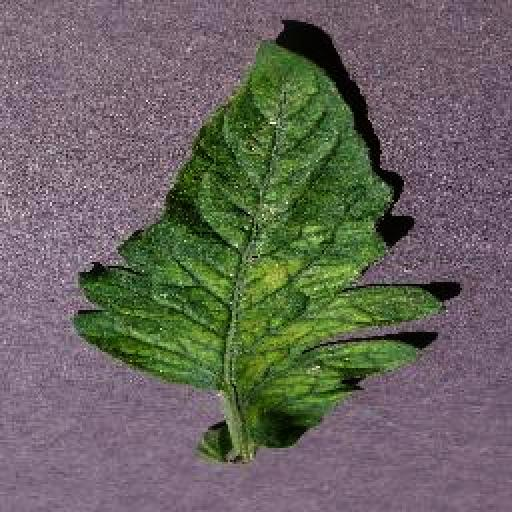disease_tomato: (74, 36, 448, 454)
